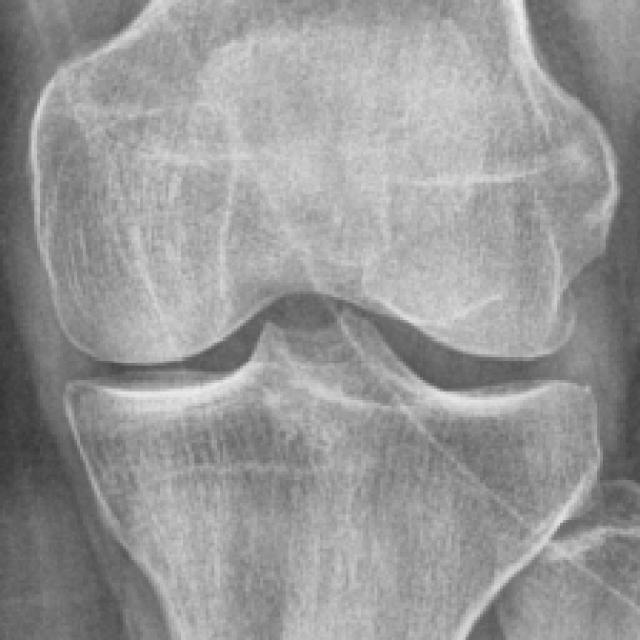femur: (31, 1, 620, 363)
tibia: (61, 309, 601, 639)
